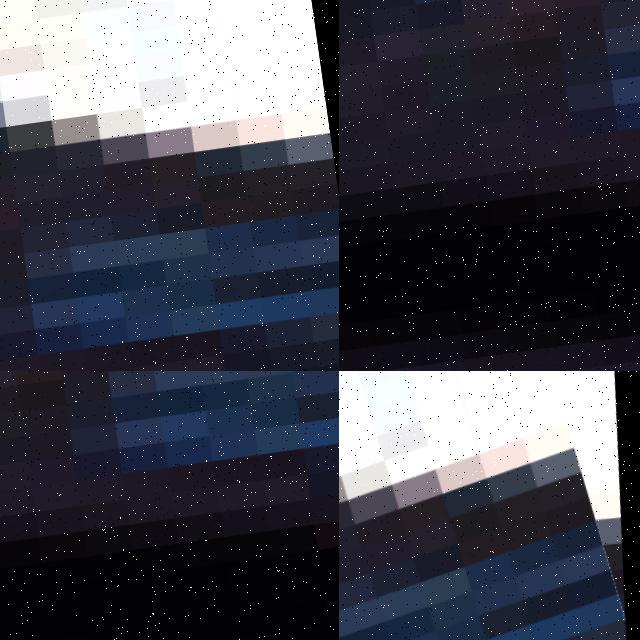drone: (339, 371, 640, 640)
